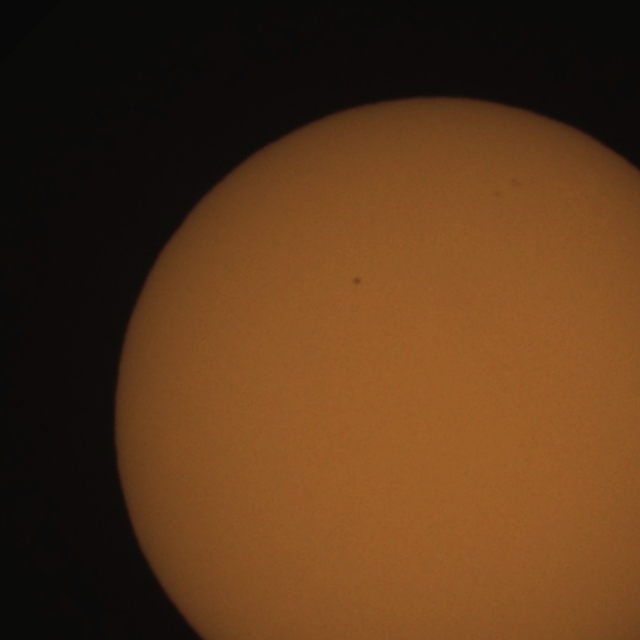sunspot: (351, 275, 363, 288)
